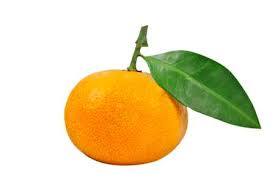orange: (65, 65, 191, 167)
